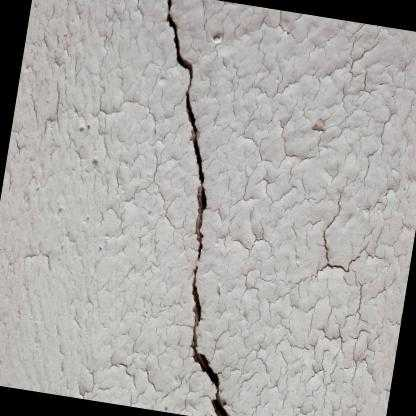crack: (165, 0, 229, 416)
